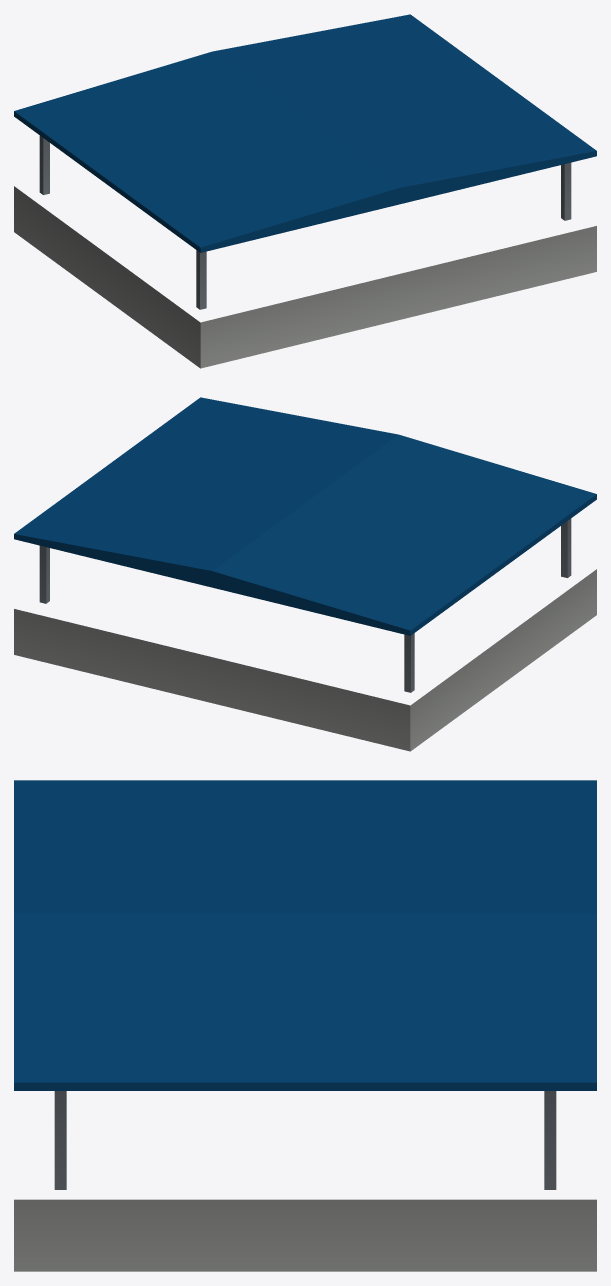
File: paddock-equipment-awning.glb
3 views of the same model, one above another, from view 1: azimuth 30°, elevation 25°; view 2: azimuth 150°, elevation 25°; view 3: azimuth 270°, elevation 25° (orthographic). The views are drawn at different scales.
Visible parts, largest first — view 1: paddock-equipment-awning; view 2: paddock-equipment-awning; view 3: paddock-equipment-awning.
Part boxes in pixels (left/top/right/bottom): paddock-equipment-awning: left=14, top=14, right=596, bottom=368; paddock-equipment-awning: left=14, top=397, right=596, bottom=751; paddock-equipment-awning: left=14, top=780, right=596, bottom=1271.
Bounding box in the file's own units: 27 × 8.6 × 22.
